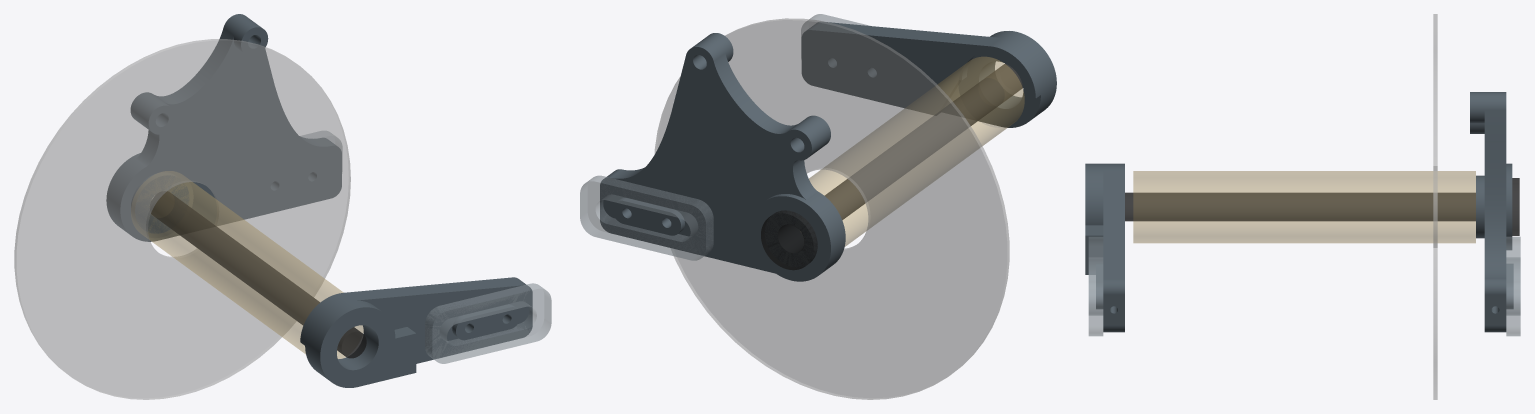
Rendered from assembly.glb.
3 views of the same model, side by side, from view 1: azimuth 30°, elevation 25°; view 2: azimuth 150°, elevation 25°; view 3: azimuth 270°, elevation 25° (orthographic). The views are drawn at different scales.
Parts seen in each view (by area): view 1: rotor, dropout_left, dropout_right, hub, thru_axle, frame_plate_right; view 2: rotor, dropout_left, dropout_right, hub, thru_axle, frame_plate_left, frame_plate_right; view 3: hub, thru_axle, dropout_left, dropout_right, rotor, frame_plate_right, frame_plate_left.
Boxes of the visible parts, <box> form: rotor: <box>14,39,350,399</box>; dropout_left: <box>106,14,341,241</box>; dropout_right: <box>300,277,532,387</box>; hub: <box>131,171,363,358</box>; thru_axle: <box>150,191,366,358</box>; frame_plate_right: <box>425,283,551,363</box>; rotor: <box>654,18,1009,399</box>; dropout_left: <box>600,33,845,281</box>; dropout_right: <box>801,21,1056,127</box>; hub: <box>809,56,1024,246</box>; thru_axle: <box>761,63,1022,270</box>; frame_plate_left: <box>580,175,713,260</box>; frame_plate_right: <box>801,14,869,58</box>; hub: <box>1133,171,1475,243</box>; thru_axle: <box>1125,178,1519,235</box>; dropout_left: <box>1470,92,1513,332</box>; dropout_right: <box>1085,163,1124,332</box>; rotor: <box>1433,14,1437,399</box>; frame_plate_right: <box>1088,236,1103,336</box>; frame_plate_left: <box>1506,236,1520,336</box>.
Bounding box in the file's own units: 173 × 160 × 181.
